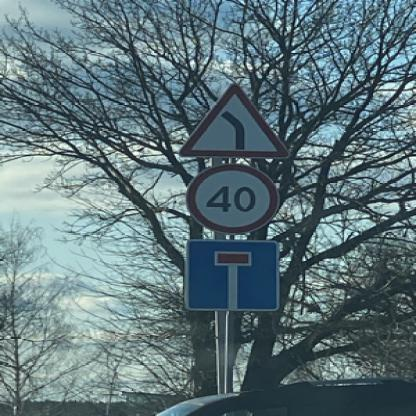speedlimit: (183, 162, 279, 233)
